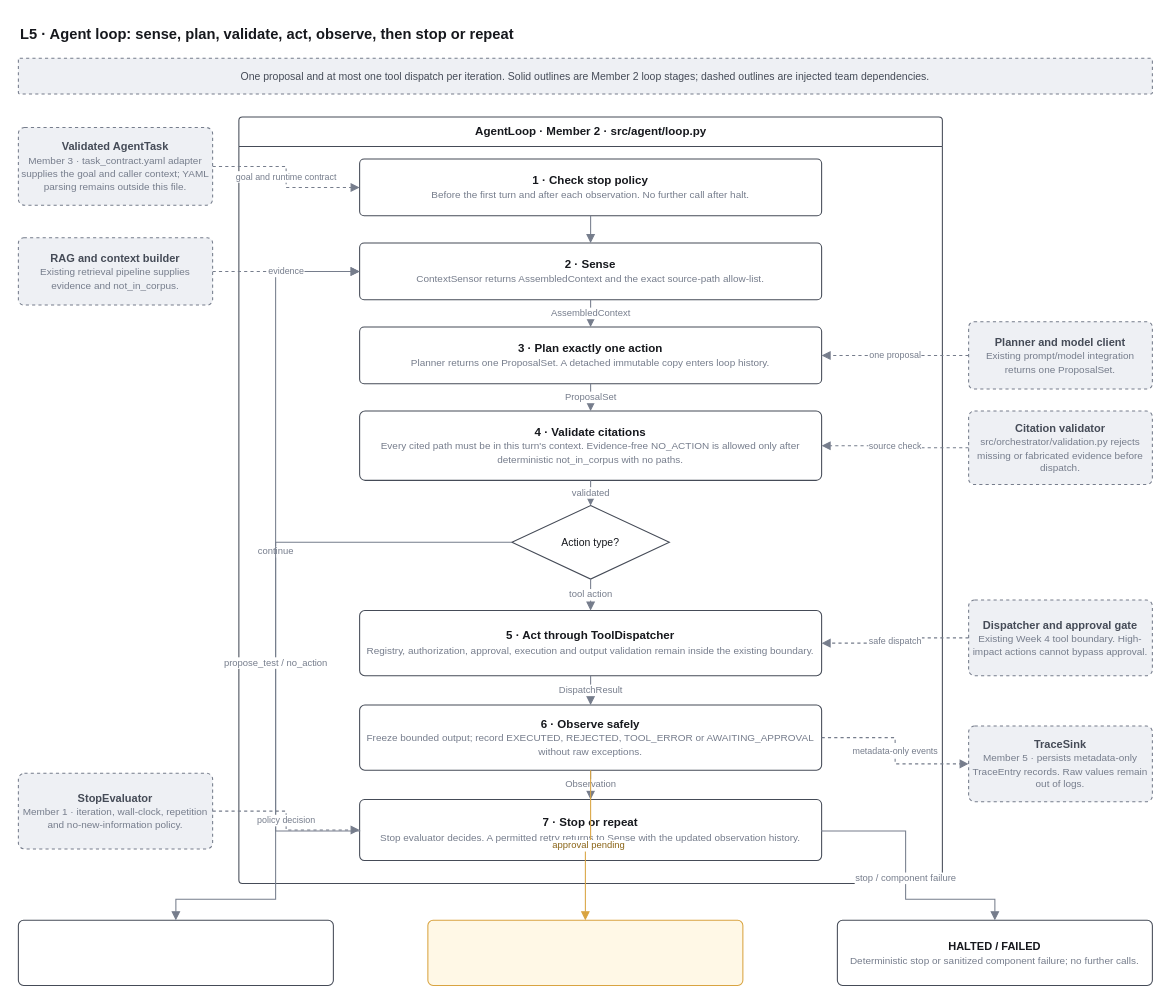
Some shapes in this 1171 by 1004 pixel diagram are drawn without their labels. The centre of each missing label's shape, as x and y in pixels:
AWAITING_APPROVAL Pause and return a resumable result; never auto-resubmit.: the point at 585,952
COMPLETED / NO_ACTION Validated direct action; no dispatcher call.: the point at 175,952
